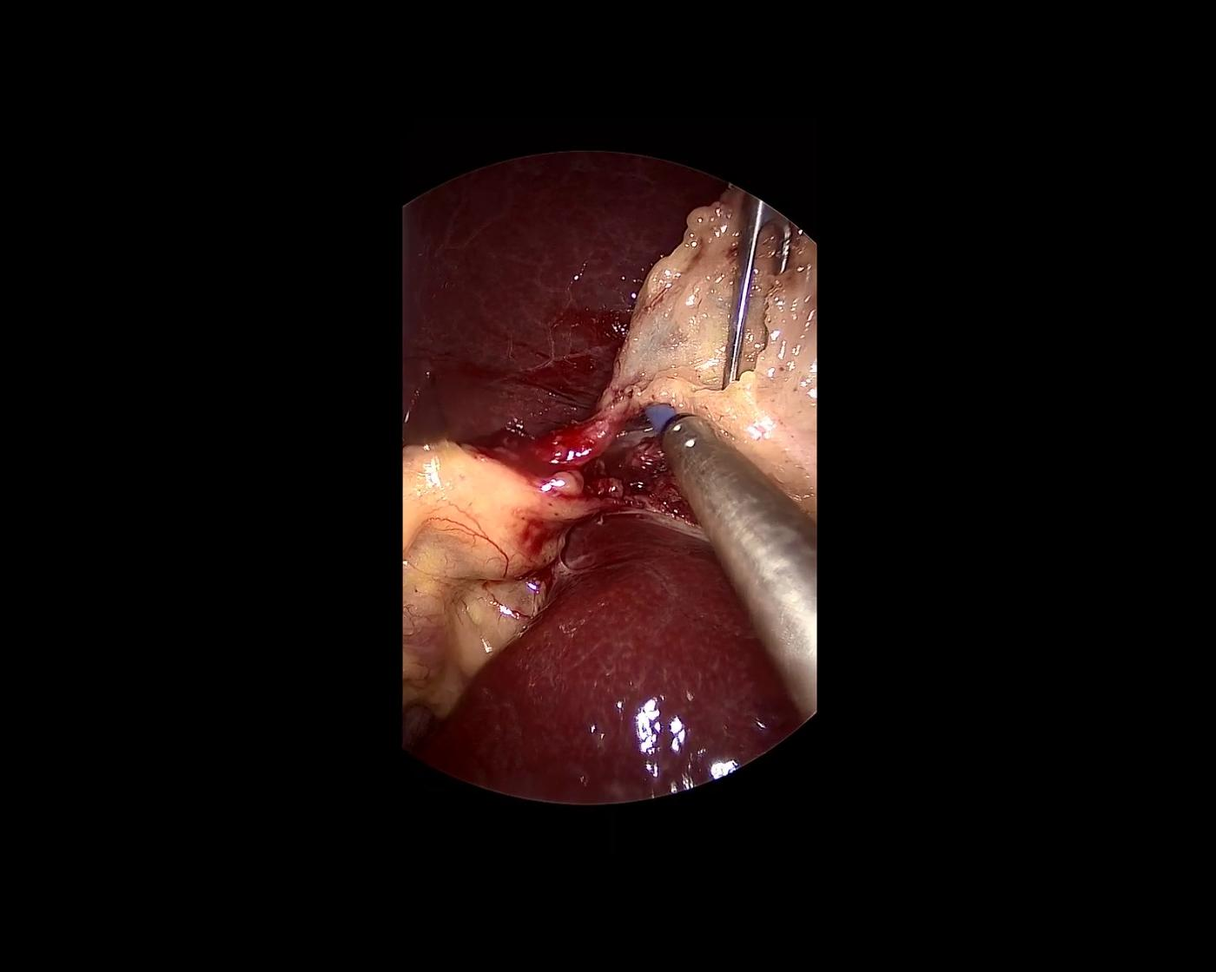Allis: (570, 382, 906, 724)
Forceps: (712, 192, 795, 405)
Gallbladder: (589, 171, 957, 528)
Liver: (352, 474, 802, 896), (403, 154, 727, 444)
